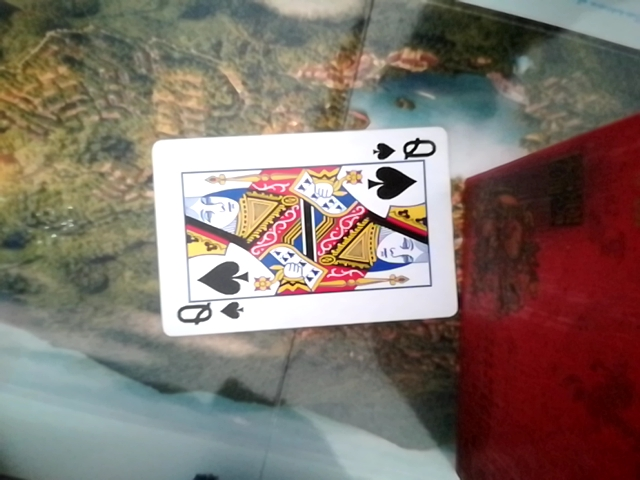ht q: (152, 130, 455, 338)
